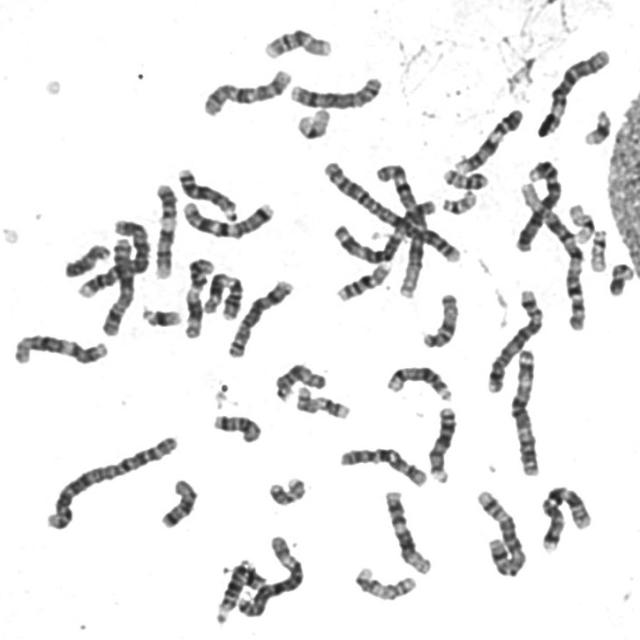A1: (514, 175, 590, 332), (371, 156, 430, 299)
A2: (317, 156, 462, 265), (40, 429, 182, 532)
A3: (328, 193, 440, 265), (507, 343, 543, 477)
B4: (74, 213, 154, 300), (511, 154, 563, 254)
B5: (482, 282, 547, 395), (470, 483, 530, 578)
C10: (198, 62, 295, 118), (334, 441, 430, 488)
C11: (179, 252, 217, 340), (200, 267, 246, 322)
C12: (379, 485, 434, 576), (7, 328, 111, 367)
C6: (535, 42, 613, 137), (233, 529, 307, 620)
C7: (534, 478, 595, 554), (178, 195, 276, 241)
C8: (223, 273, 297, 360), (284, 70, 386, 110)
C9: (450, 103, 525, 174), (148, 178, 180, 281)
D13: (173, 162, 240, 222), (424, 401, 460, 484)
D14: (210, 555, 258, 626), (382, 360, 456, 403)
D15: (418, 288, 462, 350), (270, 357, 328, 402)
E16: (258, 22, 336, 61), (331, 256, 395, 302)
E17: (350, 560, 419, 602), (291, 381, 353, 421)
E18: (156, 474, 200, 530), (207, 408, 264, 445)
F19: (291, 102, 334, 140), (564, 197, 597, 244)
F20: (263, 472, 309, 507), (438, 163, 490, 191)
G21: (578, 104, 614, 146), (137, 300, 184, 329)
G22: (437, 185, 480, 216), (585, 223, 611, 274)
X: (98, 232, 138, 337)
Y: (60, 237, 112, 279)
